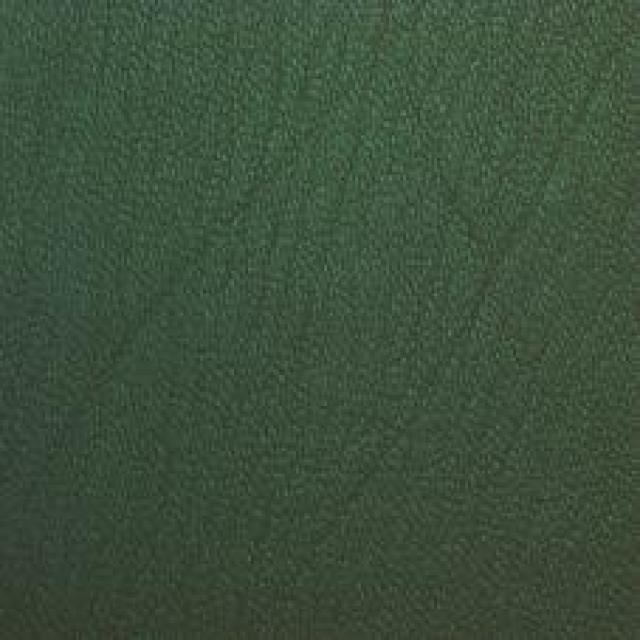Growth Marks: (107, 164, 284, 386), (314, 338, 468, 590), (483, 115, 570, 312)
